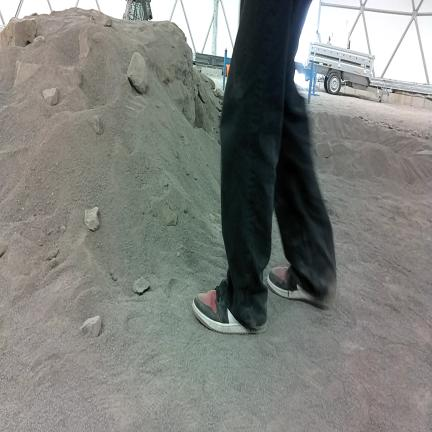Rock: (0, 18, 37, 50), (127, 52, 148, 93), (81, 316, 101, 336), (85, 207, 99, 231), (91, 11, 112, 26), (133, 277, 149, 294), (43, 88, 58, 105), (315, 143, 332, 158), (91, 115, 103, 134), (214, 88, 224, 99), (0, 244, 7, 257), (33, 36, 44, 44), (60, 226, 66, 233)
